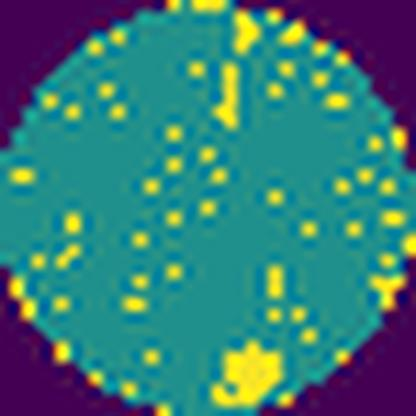Loc: (213, 340, 285, 405), (212, 60, 239, 128)
